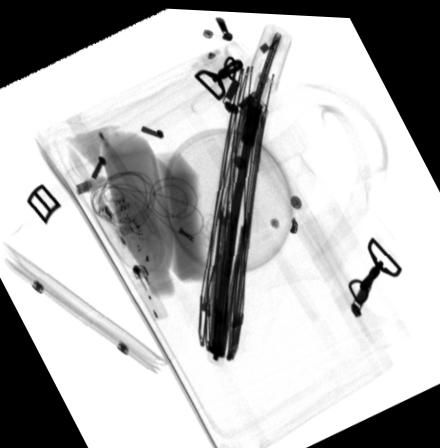Lighter: (130, 262, 168, 319)
